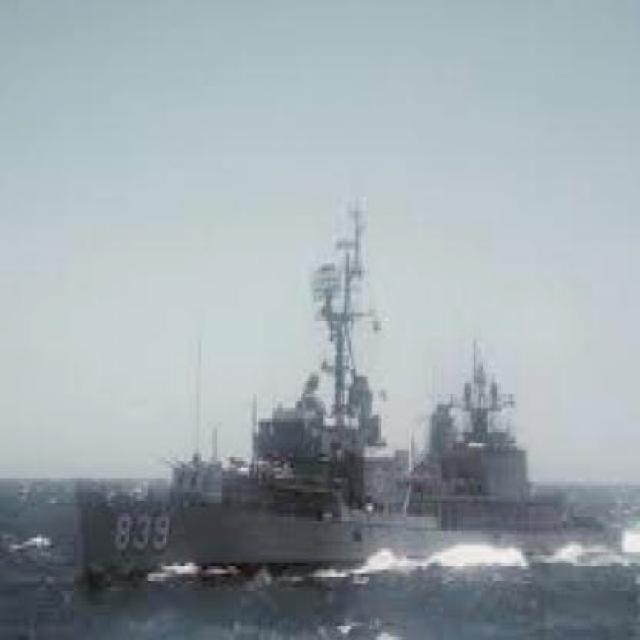no-oil: (22, 476, 640, 640)
